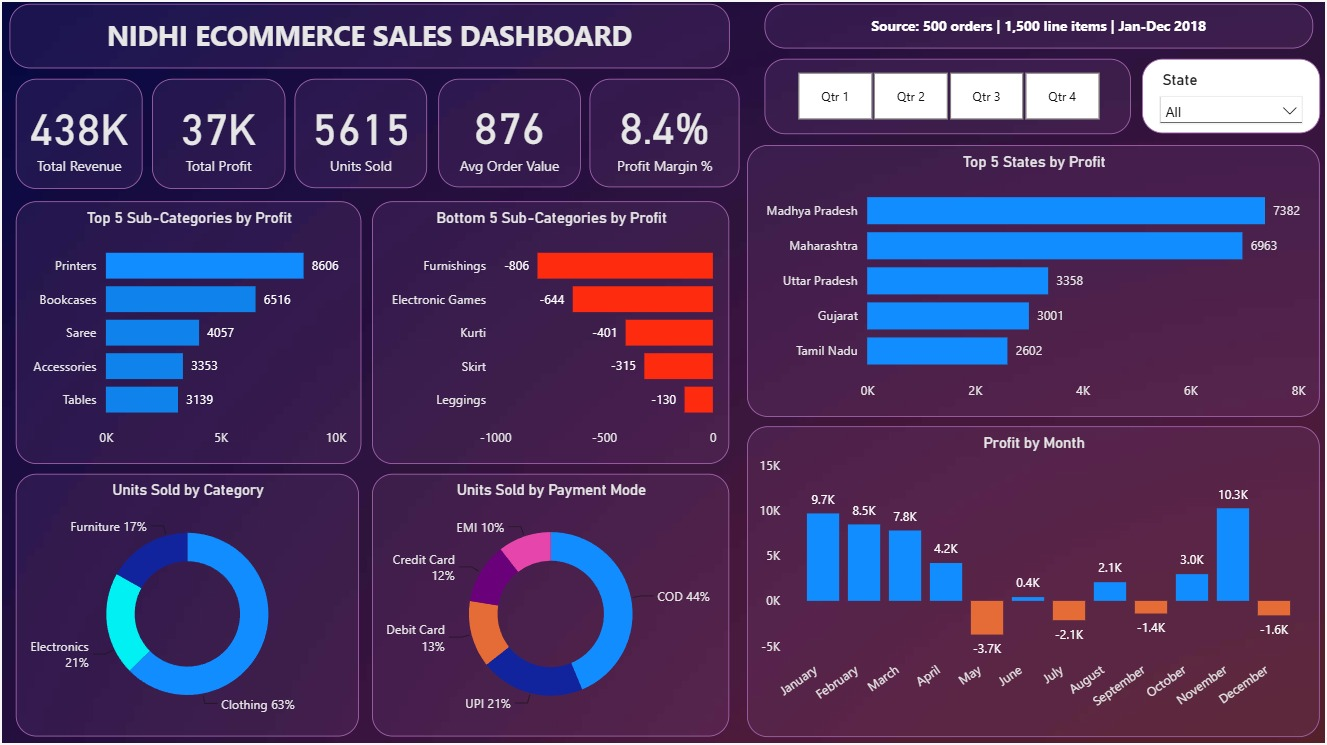

This screenshot's page, from the dashboard's own definition file:
{"tool":"powerbi","page":{"name":"Page 1","canvas":[1280,720],"ordinal":0},"visuals":[{"type":"textbox","box":[7.5,3.8,695,62.5],"z":0},{"type":"columnChart","title":"Profit by Month","fields":{"Category":["Orders.Order Date.Variation.Date Hierarchy.Month"],"Y":["_Measures.Total Profit"]},"box":[718.8,411.2,552.5,300],"z":1000},{"type":"barChart","title":"Top 5 Sub-Categories by Profit","fields":{"Category":["Details.Sub-Category"],"Y":["_Measures.Total Profit"]},"box":[13.8,193.8,333.8,253.8],"z":2000},{"type":"donutChart","title":"Units Sold by Category","fields":{"Category":["Details.Category"],"Y":["_Measures.Units Sold"]},"box":[13.8,457.5,331.2,253.8],"z":3000},{"type":"donutChart","title":"Units Sold by Payment Mode","fields":{"Category":["Details.PaymentMode"],"Y":["_Measures.Units Sold"]},"box":[357.5,457.5,345,253.8],"z":4000},{"type":"card","fields":{"Values":["_Measures.Total Revenue"]},"box":[13.8,76.2,122.5,106.2],"z":5000},{"type":"card","fields":{"Values":["_Measures.Units Sold"]},"box":[282.5,76.2,128.2,105.9],"z":6000},{"type":"card","fields":{"Values":["_Measures.Total Profit"]},"box":[145,76.2,128.8,106.2],"z":7000},{"type":"card","fields":{"Values":["_Measures.AOV"]},"box":[421.2,76.2,137.5,105],"z":8000},{"type":"barChart","title":"Top 5 States by Profit ","fields":{"Category":["Orders.State"],"Y":["_Measures.Total Profit"]},"box":[718.8,140,552.9,262.4],"z":9000},{"type":"slicer","fields":{"Values":["Orders.Order Date.Variation.Date Hierarchy.Quarter"]},"box":[736.2,56.2,353.8,72.5],"z":10000},{"type":"slicer","fields":{"Values":["Orders.State"]},"box":[1100,56.5,171.8,71.8],"z":11000},{"type":"barChart","title":"Bottom 5 Sub-Categories by Profit","fields":{"Category":["Details.Sub-Category"],"Y":["_Measures.Total Profit"]},"box":[357.5,193.8,345,253.8],"z":12000},{"type":"card","fields":{"Values":["_Measures.Profit Margin %"]},"box":[567.5,76.2,145,105],"z":13000},{"type":"textbox","box":[736.5,3.5,529.4,43.5],"z":14000}]}

Visuals, with their boxes in screenshot pixels (x1, y1, x2, y2), scaled from the page's 1280x720 canvas onto the 1327x745 screenshot:
textbox: [8,4,728,69]
"Profit by Month" columnChart: [745,425,1318,736]
"Top 5 Sub-Categories by Profit" barChart: [14,201,360,463]
"Units Sold by Category" donutChart: [14,473,358,736]
"Units Sold by Payment Mode" donutChart: [371,473,728,736]
card - _Measures.Total Revenue: [14,79,141,189]
card - _Measures.Units Sold: [293,79,426,188]
card - _Measures.Total Profit: [150,79,284,189]
card - _Measures.AOV: [437,79,579,187]
"Top 5 States by Profit " barChart: [745,145,1318,416]
slicer - Orders.Order Date.Variation.Date Hierarchy.Quarter: [763,58,1130,133]
slicer - Orders.State: [1140,58,1318,133]
"Bottom 5 Sub-Categories by Profit" barChart: [371,201,728,463]
card - _Measures.Profit Margin %: [588,79,739,187]
textbox: [764,4,1312,49]
